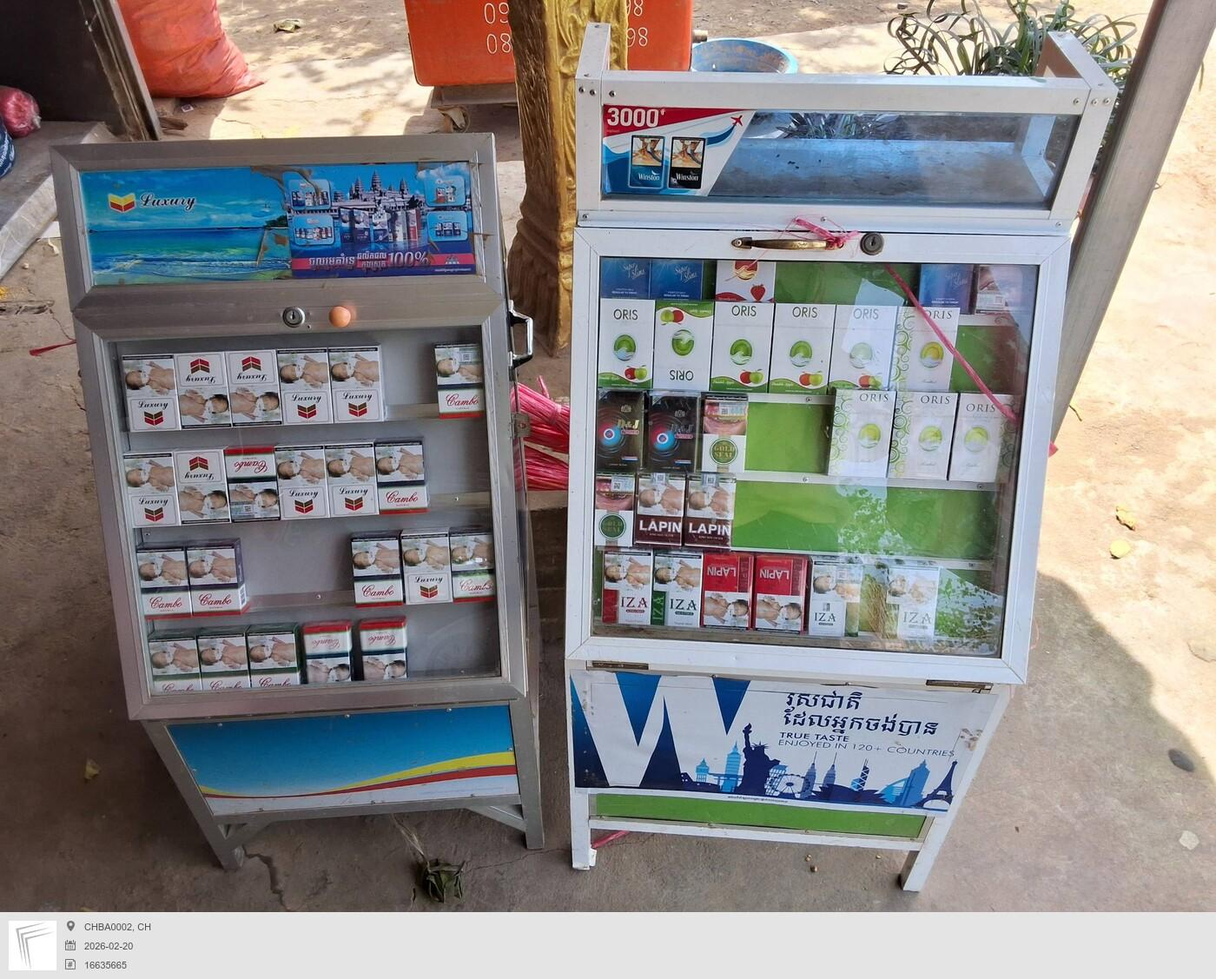cigarette_pack: (883, 303, 960, 399), (893, 390, 963, 480), (823, 305, 889, 399), (770, 294, 829, 397), (652, 303, 719, 387), (823, 391, 889, 476), (710, 300, 770, 391), (952, 395, 1015, 477), (807, 554, 867, 639), (882, 561, 945, 641), (591, 388, 647, 472), (120, 353, 181, 430), (647, 389, 701, 475), (602, 300, 650, 396), (698, 393, 753, 475), (173, 445, 228, 523), (187, 540, 243, 613), (278, 347, 330, 424), (601, 546, 651, 626), (298, 618, 358, 684), (753, 555, 803, 634), (702, 552, 751, 632), (198, 625, 259, 689), (137, 541, 188, 617), (401, 529, 454, 602), (332, 345, 382, 422), (326, 439, 375, 517), (226, 351, 279, 423), (589, 472, 639, 548), (347, 535, 402, 604), (226, 443, 275, 520), (653, 551, 701, 629), (638, 472, 685, 551), (273, 445, 324, 517), (377, 437, 425, 513), (435, 342, 484, 416), (357, 613, 410, 681), (688, 478, 736, 553), (174, 353, 223, 423), (450, 528, 495, 604), (249, 619, 299, 686), (127, 452, 173, 523), (647, 252, 707, 301), (149, 631, 196, 691), (923, 261, 971, 318), (717, 258, 781, 298), (978, 263, 1029, 313), (624, 132, 668, 184), (603, 256, 649, 298), (668, 139, 707, 186)
